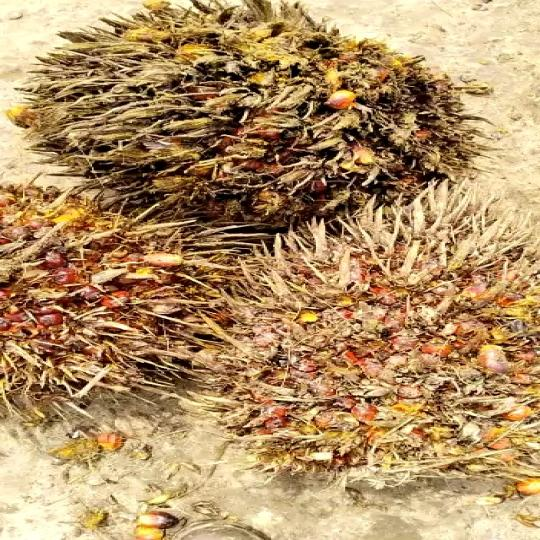terlalu masak: (0, 3, 485, 220), (196, 192, 540, 491)
